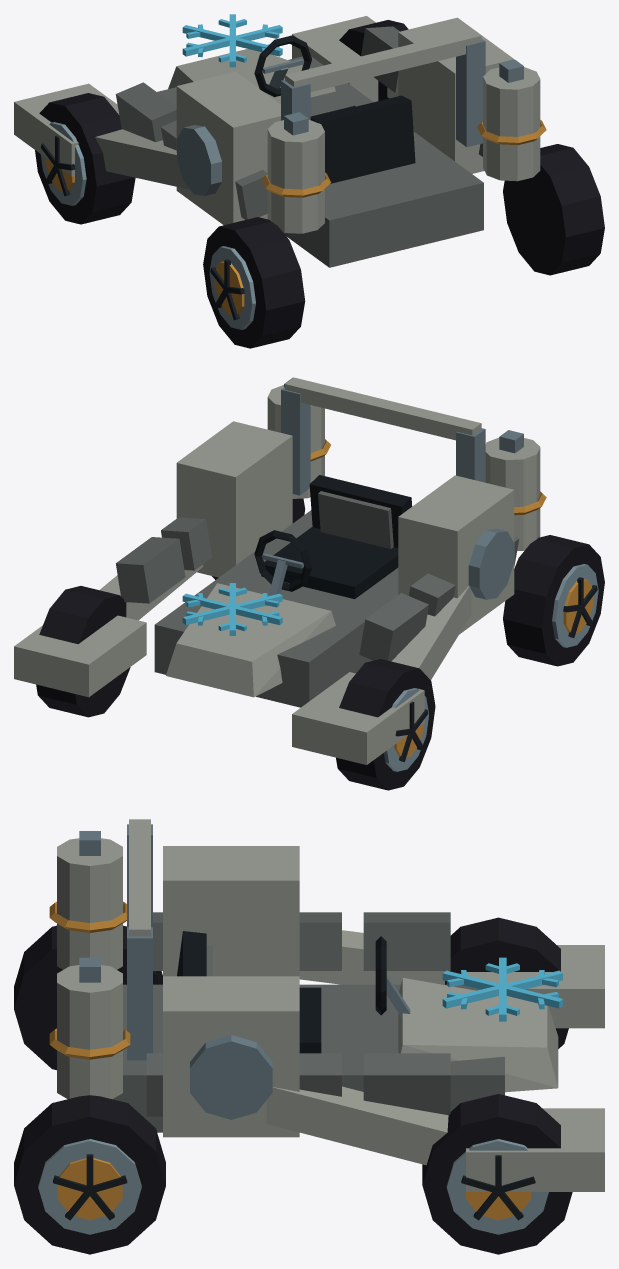
Rendered from kart.glb.
3 renders of one model, top to bottom at view 1: azimuth 30°, elevation 25°; view 2: azimuth 150°, elevation 25°; view 3: azimuth 270°, elevation 25°, orthographic. The views are drawn at different scales.
Parts seen in each view (by area): view 1: identity-mech-mech-articulated-limbs-and-open-harness, identity-mech-motif-tanks, wheel-rear-left, wheel-rear-right, wheel-front-left, identity-mech-driver-cockpit, identity-mech-motif-armor, identity-mech-motif-snow, wheel-front-right; view 2: identity-mech-mech-articulated-limbs-and-open-harness, identity-mech-driver-cockpit, wheel-rear-left, identity-mech-motif-armor, wheel-front-left, identity-mech-motif-tanks, wheel-front-right, identity-mech-motif-snow; view 3: identity-mech-mech-articulated-limbs-and-open-harness, wheel-rear-right, identity-mech-motif-tanks, identity-mech-motif-armor, wheel-front-right, wheel-front-left, wheel-rear-left, identity-mech-driver-cockpit, identity-mech-motif-snow.
Boxes of the visible parts, x1=… form: identity-mech-mech-articulated-limbs-and-open-harness: x1=14, y1=16, x2=514, y2=267; identity-mech-motif-tanks: x1=261, y1=59, x2=546, y2=233; wheel-rear-left: x1=203, y1=217, x2=305, y2=348; wheel-rear-right: x1=503, y1=144, x2=604, y2=275; wheel-front-left: x1=35, y1=93, x2=135, y2=224; identity-mech-driver-cockpit: x1=254, y1=35, x2=415, y2=183; identity-mech-motif-armor: x1=115, y1=26, x2=482, y2=219; identity-mech-motif-snow: x1=182, y1=14, x2=282, y2=67; wheel-front-right: x1=339, y1=20, x2=408, y2=100; identity-mech-mech-articulated-limbs-and-open-harness: x1=14, y1=377, x2=514, y2=764; identity-mech-driver-cockpit: x1=254, y1=475, x2=412, y2=598; wheel-rear-left: x1=503, y1=535, x2=604, y2=666; identity-mech-motif-armor: x1=116, y1=517, x2=518, y2=661; wheel-front-left: x1=336, y1=659, x2=435, y2=790; identity-mech-motif-tanks: x1=267, y1=377, x2=546, y2=551; wheel-front-right: x1=36, y1=586, x2=130, y2=717; identity-mech-motif-snow: x1=182, y1=583, x2=282, y2=635; identity-mech-mech-articulated-limbs-and-open-harness: x1=112, y1=819, x2=604, y2=1191; wheel-rear-right: x1=14, y1=1095, x2=165, y2=1254; identity-mech-motif-tanks: x1=49, y1=831, x2=130, y2=1098; identity-mech-motif-armor: x1=146, y1=912, x2=450, y2=1116; wheel-front-right: x1=422, y1=1094, x2=572, y2=1254; wheel-front-left: x1=445, y1=917, x2=568, y2=1048; wheel-rear-left: x1=14, y1=925, x2=162, y2=1070; identity-mech-driver-cockpit: x1=177, y1=931, x2=410, y2=1053; identity-mech-motif-snow: x1=442, y1=957, x2=562, y2=1021.
Size of the model in its own units: 2.29 by 1.42 by 2.72.
